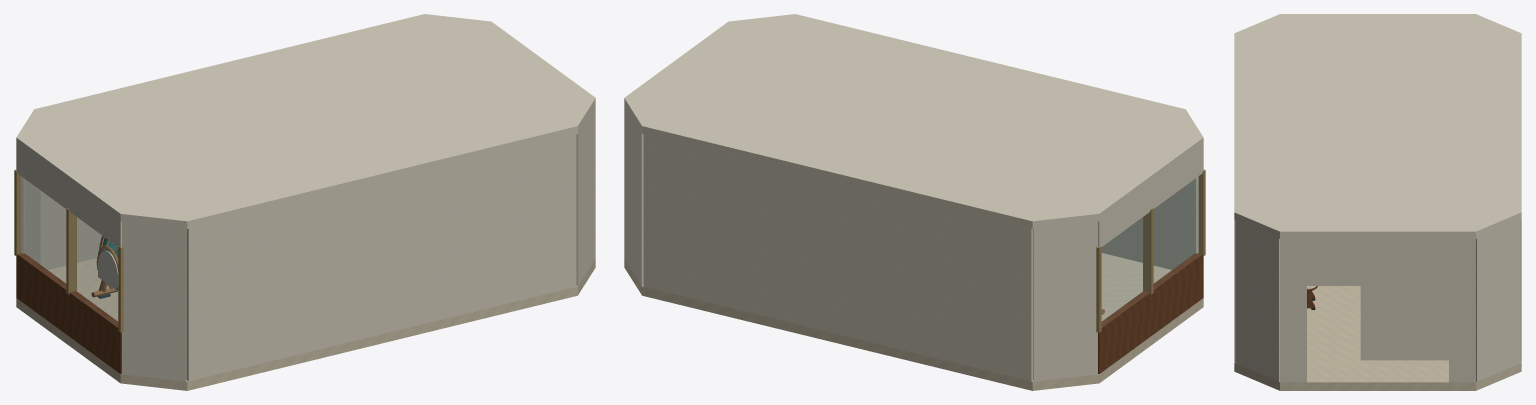
Rendered from D04_PORT_CENTRAL_HOME_935_r001.glb.
3 views of the same model, side by side, from view 1: azimuth 30°, elevation 25°; view 2: azimuth 150°, elevation 25°; view 3: azimuth 270°, elevation 25° (orthographic). The views are drawn at different scales.
Parts seen in each view (by area): view 1: PC935_D04H934_Roof, PC935_D04H934_Shell_3, PC935_D04H934_Shell_2, PC935_D04H934_Floor, PC935_D04H934_GardenGlass, PC935_D04H934_GardenDado, PC935_D04H934_Shell_4, PC935_D04H934_GardenHead, PC935_D04H934_Shell_7, PC935_D04H934_Shell_0, PC935_D04H934_WindowMullion_1, PC935_D04H934_WindowMullion_0 (+2 smaller); view 2: PC935_D04H934_Roof, PC935_D04H934_Shell_7, PC935_D04H934_Shell_0, PC935_D04H934_Floor, PC935_D04H934_GardenGlass, PC935_D04H934_GardenDado, PC935_D04H934_Shell_6, PC935_D04H934_GardenHead, PC935_D04H934_Shell_3, PC935_D04H934_Shell_2, PC935_D04H934_WindowMullion_1, PC935_D04H934_WindowMullion_2 (+1 smaller); view 3: PC935_D04H934_Roof, PC935_D04H934_Floor, PC935_D04H934_EntryHeader, PC935_D04H934_Shell_4, PC935_D04H934_Shell_6, PC935_D04H934_BathDogleg, PC935_D04H934_EntryWall_0, PC935_D04H934_EntryWall_1, PC935_D04H934_BathScreen, PC935_D04H934_Shell_3, PC935_D04H934_Shell_7.
Part boxes in pixels (box(x1,y1,x2,y2)): PC935_D04H934_Roof: box(16, 14, 595, 228); PC935_D04H934_Shell_3: box(186, 134, 576, 381); PC935_D04H934_Shell_2: box(122, 221, 186, 381); PC935_D04H934_Floor: box(16, 258, 595, 390); PC935_D04H934_GardenGlass: box(24, 179, 117, 325); PC935_D04H934_GardenDado: box(16, 253, 121, 373); PC935_D04H934_Shell_4: box(576, 107, 595, 285); PC935_D04H934_GardenHead: box(16, 145, 121, 246); PC935_D04H934_Shell_7: box(40, 191, 102, 269); PC935_D04H934_Shell_0: box(21, 176, 40, 264); PC935_D04H934_WindowMullion_1: box(66, 208, 76, 294); PC935_D04H934_WindowMullion_0: box(14, 169, 21, 256); PC935_D04H934_Roof: box(624, 14, 1203, 228); PC935_D04H934_Shell_7: box(643, 134, 1033, 381); PC935_D04H934_Shell_0: box(1033, 221, 1097, 381); PC935_D04H934_Floor: box(624, 253, 1203, 390); PC935_D04H934_GardenGlass: box(1102, 179, 1195, 326); PC935_D04H934_GardenDado: box(1098, 253, 1203, 373); PC935_D04H934_Shell_6: box(624, 107, 643, 285); PC935_D04H934_GardenHead: box(1098, 145, 1203, 246); PC935_D04H934_Shell_3: box(1101, 191, 1179, 269); PC935_D04H934_Shell_2: box(1179, 176, 1198, 264); PC935_D04H934_WindowMullion_1: box(1143, 208, 1153, 294); PC935_D04H934_WindowMullion_2: box(1198, 169, 1205, 256); PC935_D04H934_Roof: box(1234, 14, 1521, 238); PC935_D04H934_Floor: box(1234, 286, 1521, 390); PC935_D04H934_EntryHeader: box(1307, 239, 1448, 285); PC935_D04H934_Shell_4: box(1235, 220, 1279, 381); PC935_D04H934_Shell_6: box(1476, 220, 1520, 381); PC935_D04H934_BathDogleg: box(1360, 286, 1448, 360); PC935_D04H934_EntryWall_0: box(1449, 239, 1475, 382); PC935_D04H934_EntryWall_1: box(1280, 239, 1306, 382); PC935_D04H934_BathScreen: box(1360, 286, 1367, 360); PC935_D04H934_Shell_3: box(1234, 219, 1235, 362); PC935_D04H934_Shell_7: box(1520, 219, 1521, 362).
Bounding box in the file's own units: 12.92 × 4.4 × 7.2.
Materials: 36 (21 with a texture image).
